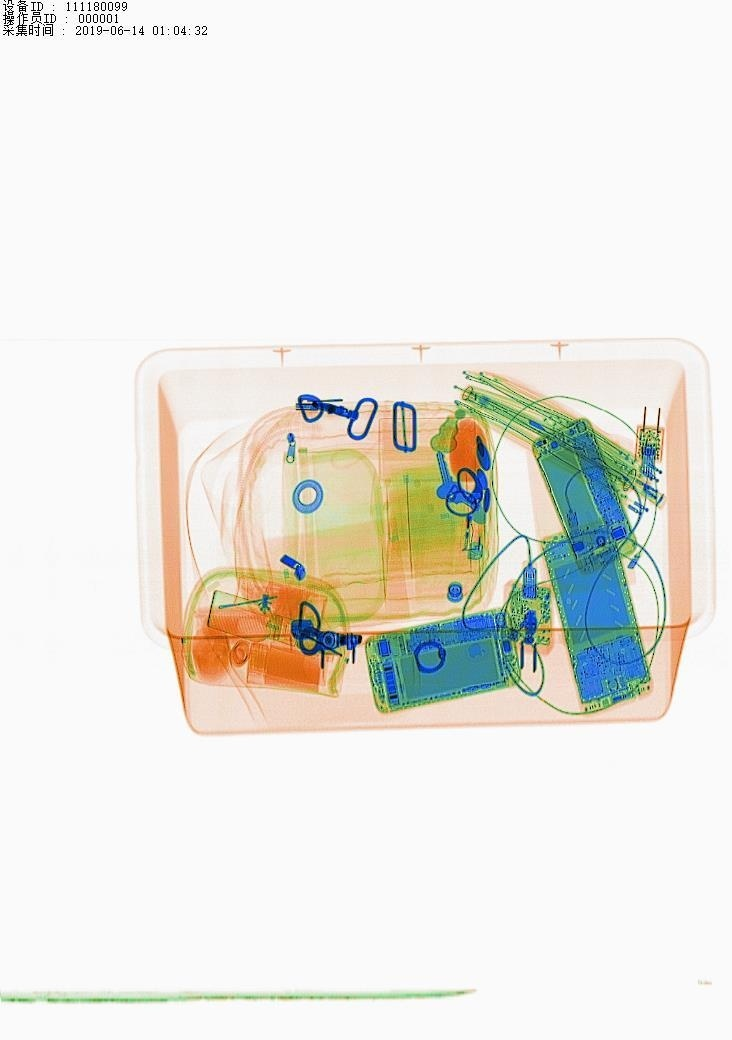NonmetallicFire: (457, 462, 504, 568)
